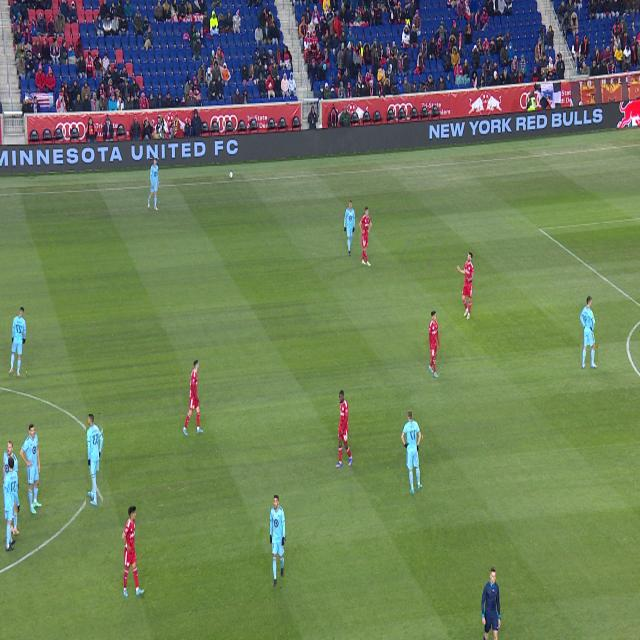player: (122, 506, 145, 597), (20, 425, 42, 514), (402, 410, 422, 494), (3, 457, 20, 551), (183, 360, 204, 436), (87, 414, 103, 506), (270, 495, 285, 587), (335, 390, 352, 468), (580, 296, 598, 369), (457, 252, 474, 321), (10, 307, 26, 377), (3, 441, 18, 493), (429, 310, 440, 377), (360, 206, 371, 267), (344, 200, 355, 256), (148, 158, 159, 210), (11, 501, 20, 535)
referee: (481, 567, 501, 640)
